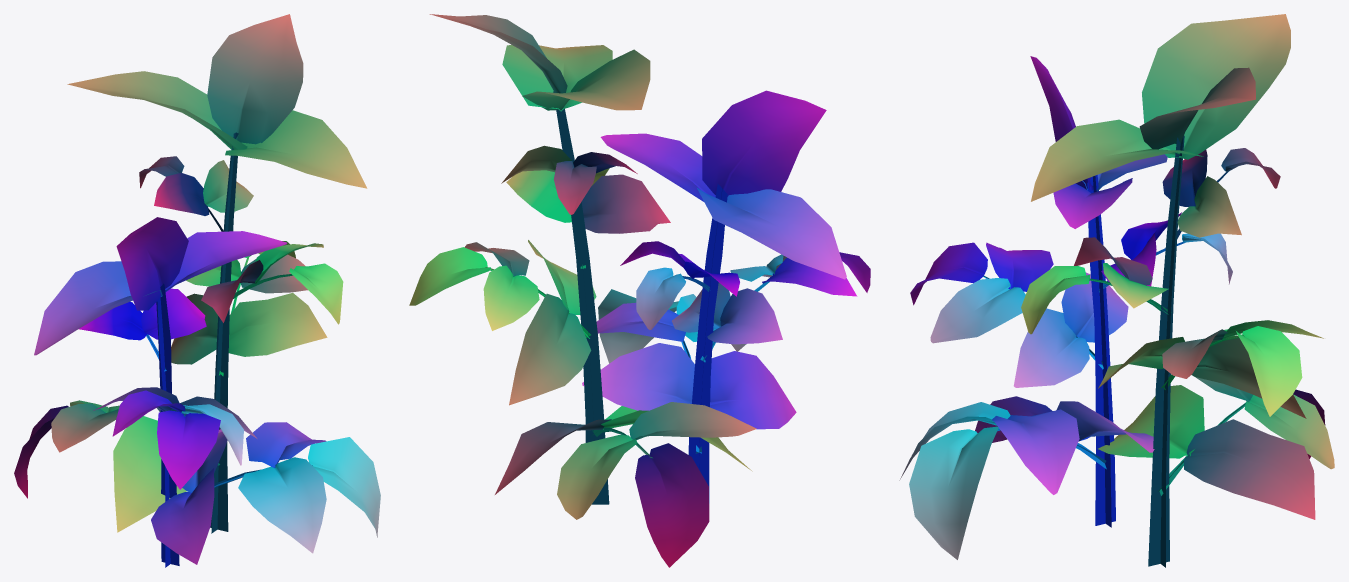
File: Raspberry_wf0oefeja_High_wf0oefeja_VarC_LOD0.fbx
3 renders of one model, left to right at view 1: azimuth 30°, elevation 25°; view 2: azimuth 150°, elevation 25°; view 3: azimuth 270°, elevation 25°, orthographic. The views are drawn at different scales.
Visible parts, largest first — view 1: _4k2l_VarC_LOD0; view 2: _4k2l_VarC_LOD0; view 3: _4k2l_VarC_LOD0.
Boxes of the visible parts, left/top/right/bottom form: _4k2l_VarC_LOD0: left=14, top=14, right=380, bottom=567; _4k2l_VarC_LOD0: left=409, top=14, right=870, bottom=567; _4k2l_VarC_LOD0: left=899, top=14, right=1334, bottom=567.
Size of the model in its own units: 12.4 by 16.27 by 12.15.
